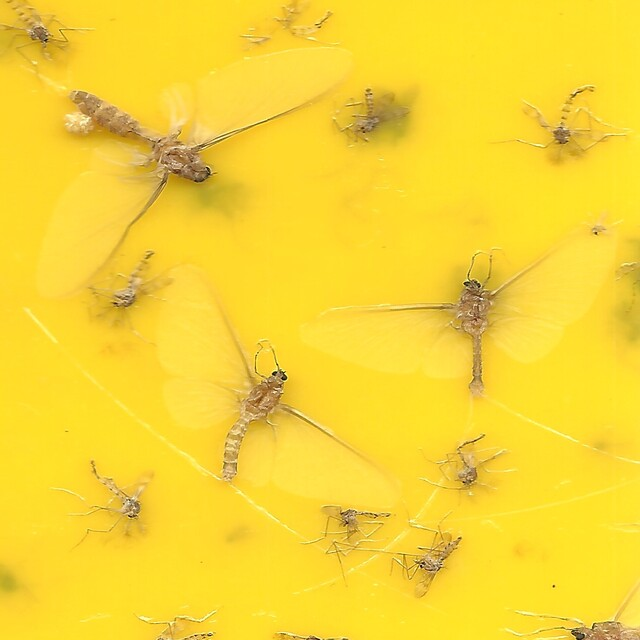Ephemeroptera: (50, 42, 354, 302), (165, 284, 395, 499), (328, 238, 590, 401)
Nematocera: (106, 248, 181, 311), (87, 459, 154, 520), (354, 83, 410, 142), (413, 536, 463, 598), (317, 503, 392, 540), (452, 433, 490, 488)
